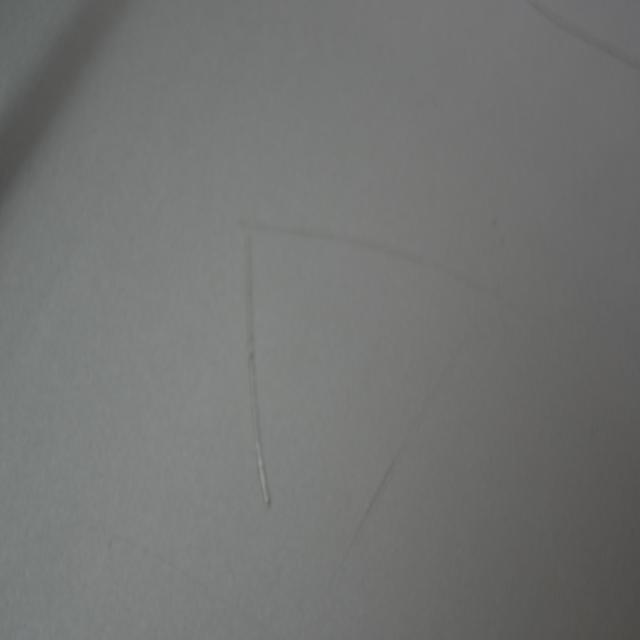scratch: (325, 221, 546, 602), (256, 216, 507, 300), (240, 226, 275, 516), (528, 0, 640, 71)
